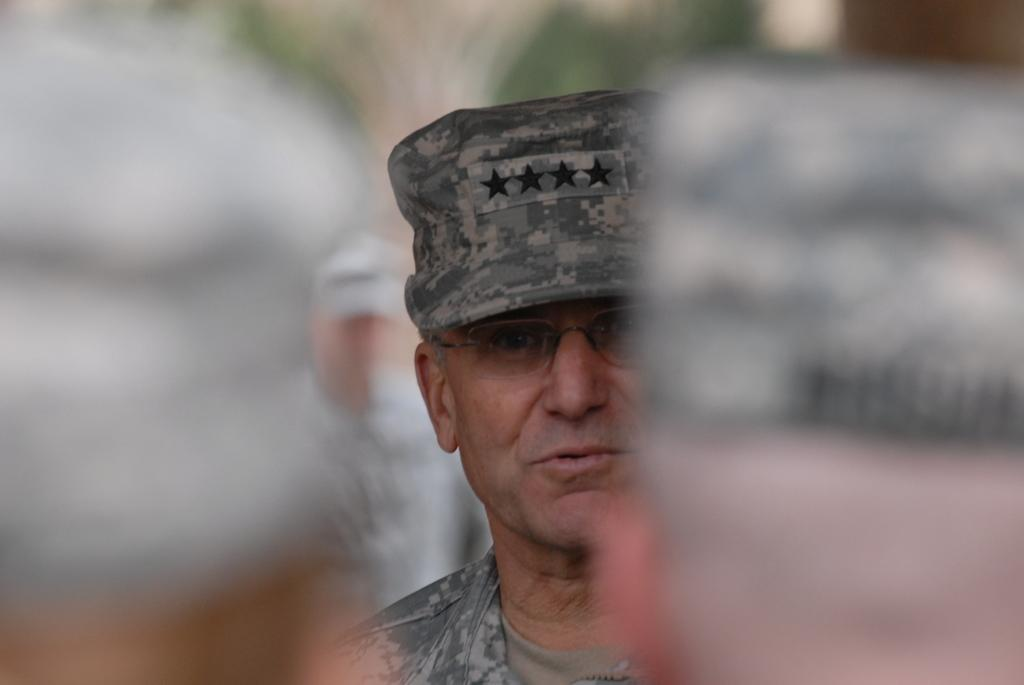Hat: (622, 46, 1023, 451), (386, 80, 672, 381), (308, 230, 414, 320)
